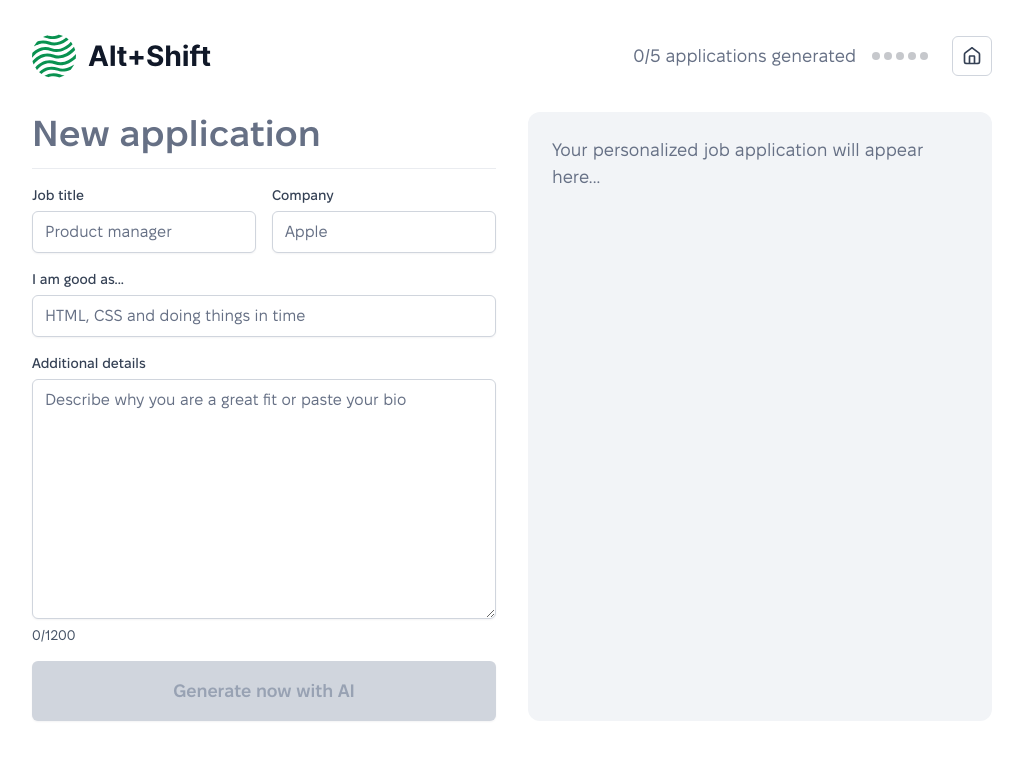
Scenario: CreateApplicationPage › renders generated result after successful generation
Type "Frontend Engineer" into the field labelled "Job title".
click(144, 232); type("Frontend Engineer")  # box [32,211,256,253]
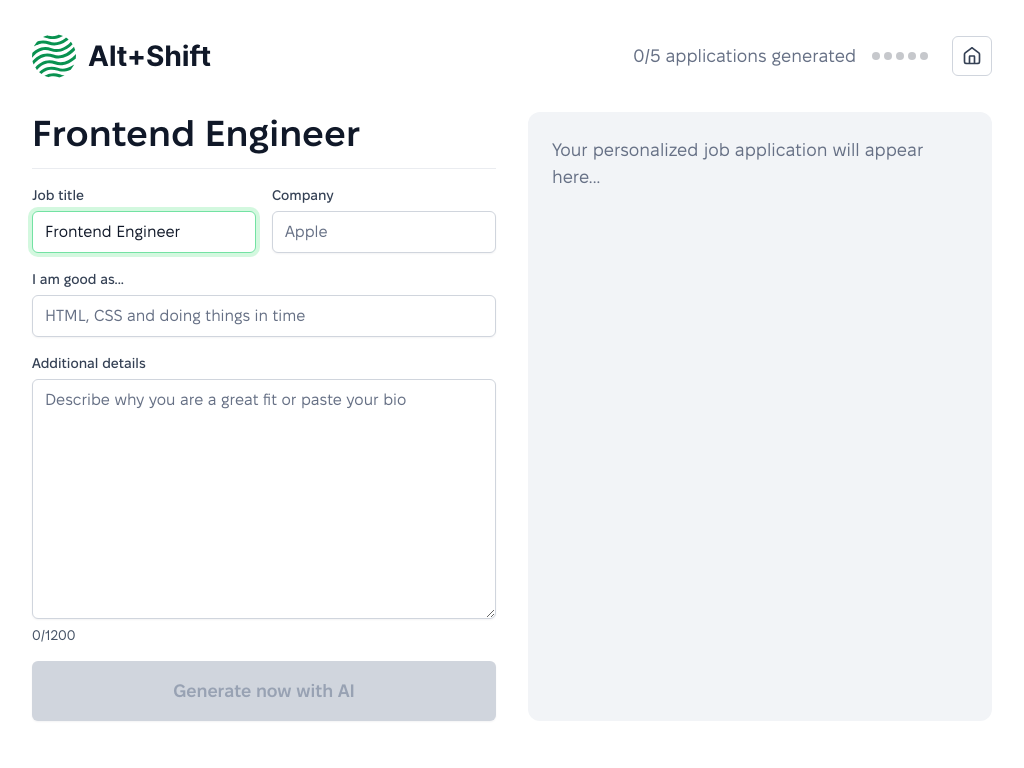
Type "Acme" into the field labelled "Company".
click(384, 232); type("Acme")  # box [272,211,496,253]
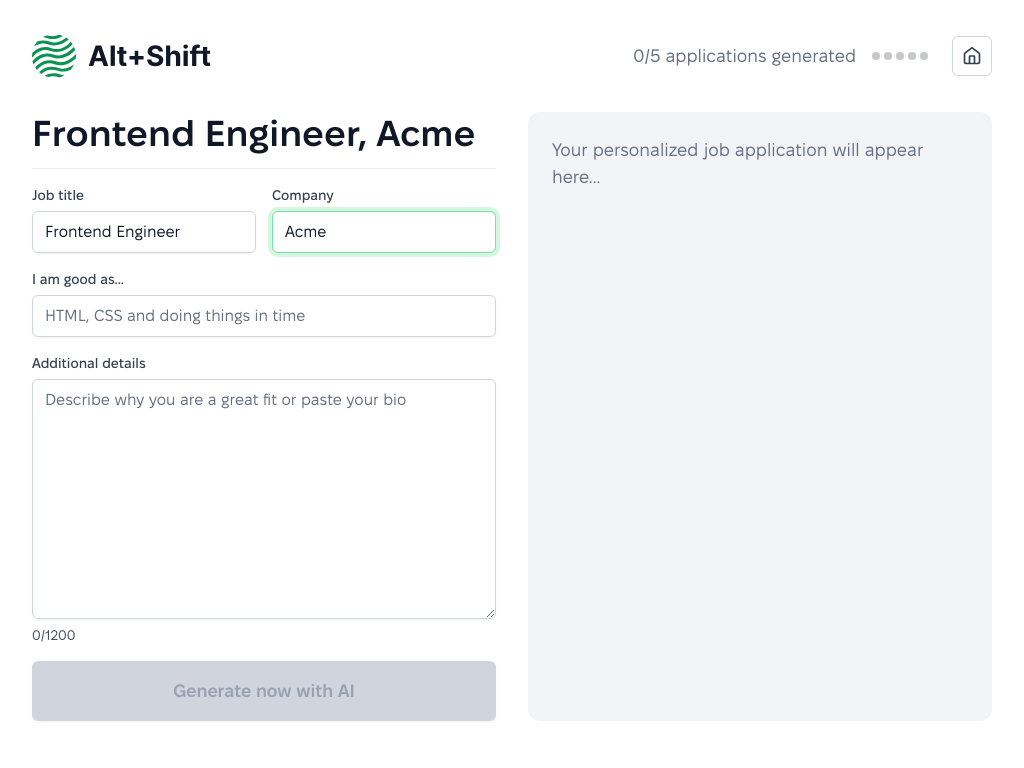
Type "React, Testing" into the field labelled "I am good as...".
click(264, 316); type("React, Testing")  # box [32,295,496,337]
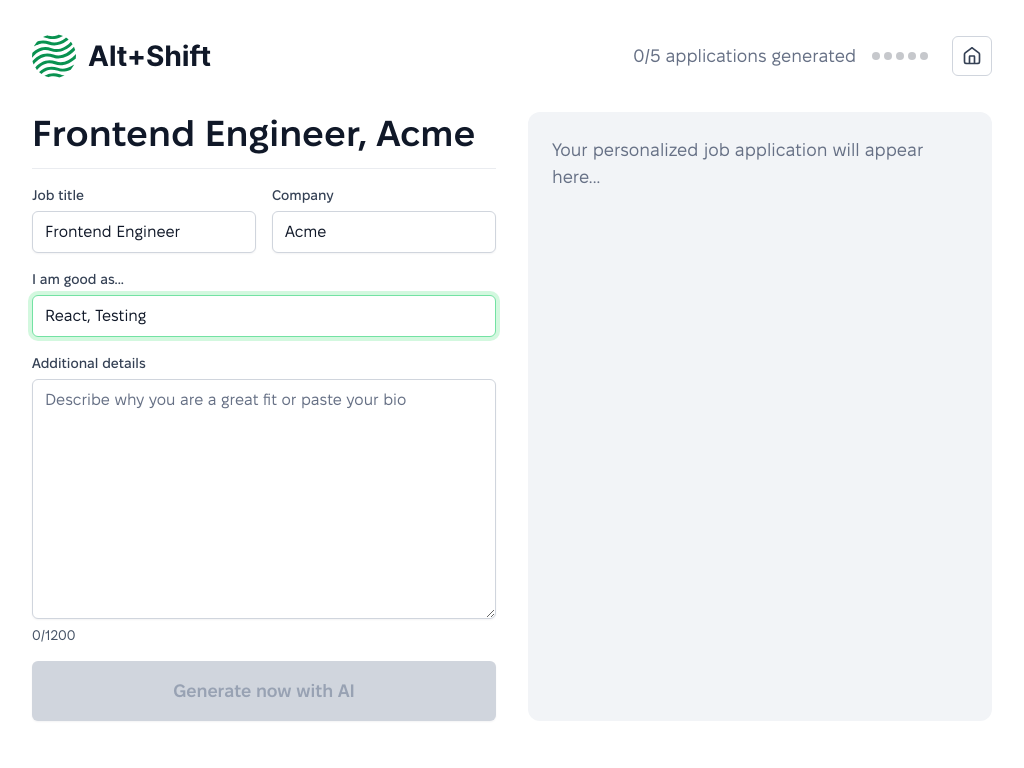
Type "I build maintainable user interfaces." into the text box labelled "Additional details".
click(264, 499); type("I build maintainable user interfaces.")  # box [32,379,496,619]
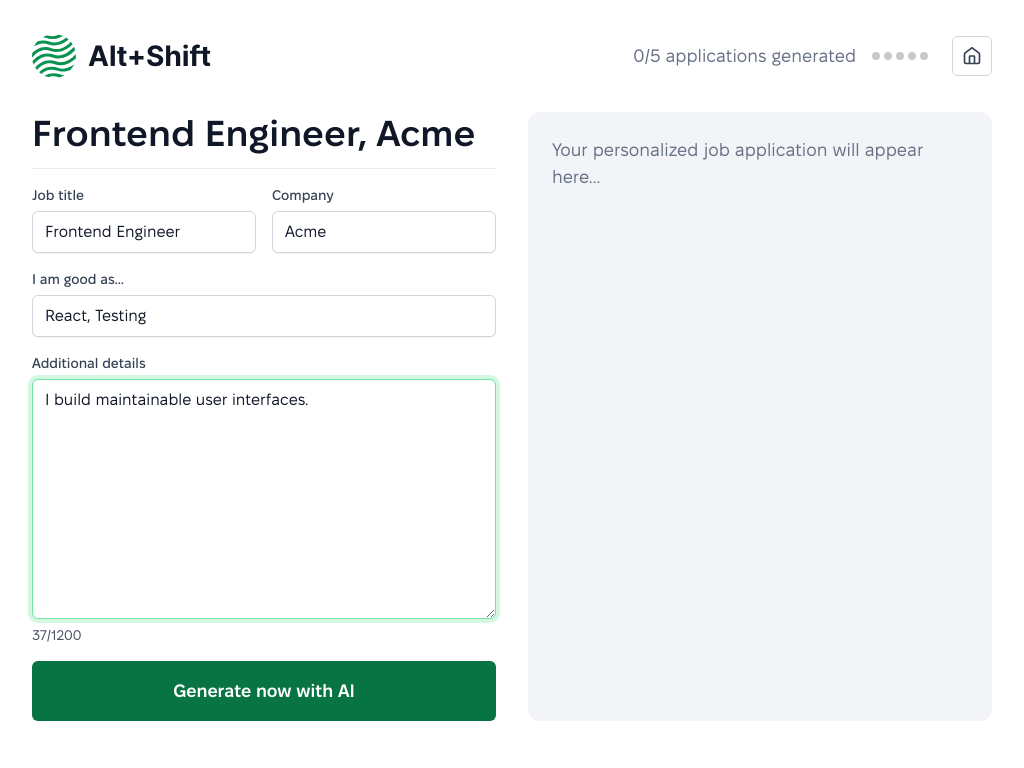
Click the button "Generate now with AI".
click(264, 691)  # box [32,661,496,721]
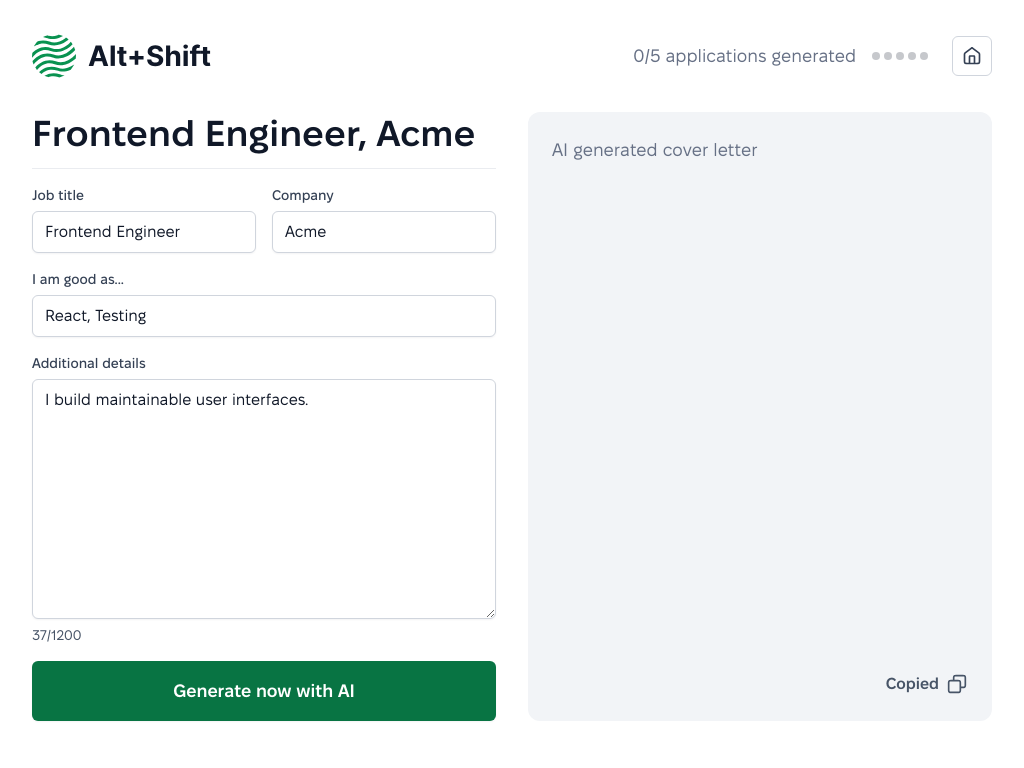
Result: the text "AI generated cover letter" is shown at [552,140,758,159]
